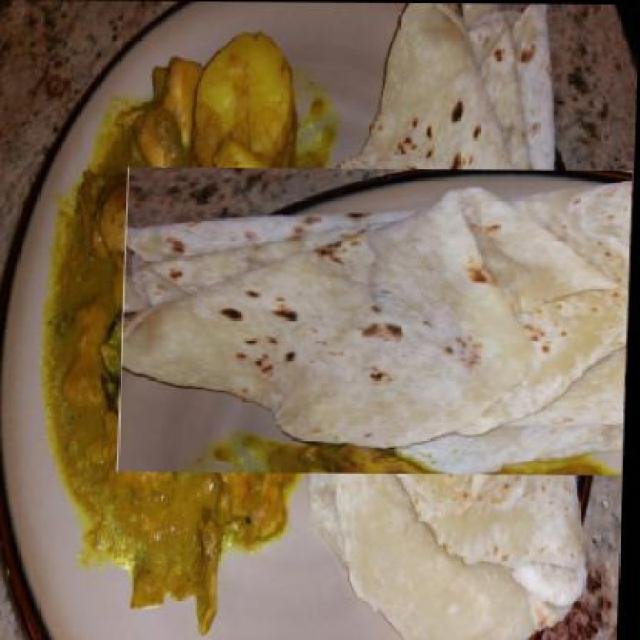chapati: (201, 82, 636, 561)
